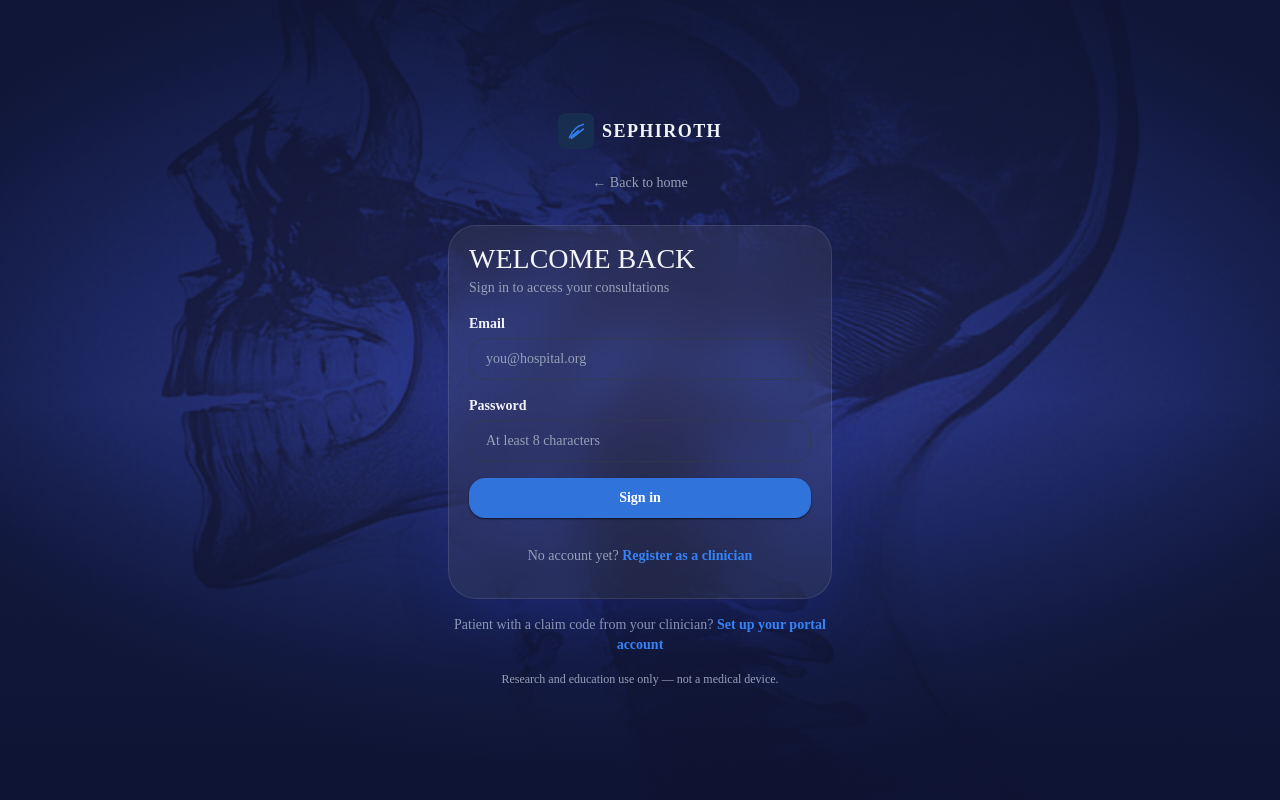
LoginPage error classification › renders validation on a 422
The image size is (1280, 800).
In the field with placeholder "you@hospital.org": coordinates (640, 359) top-left (469, 338), bottom-right (811, 380), type "doc@example.org"
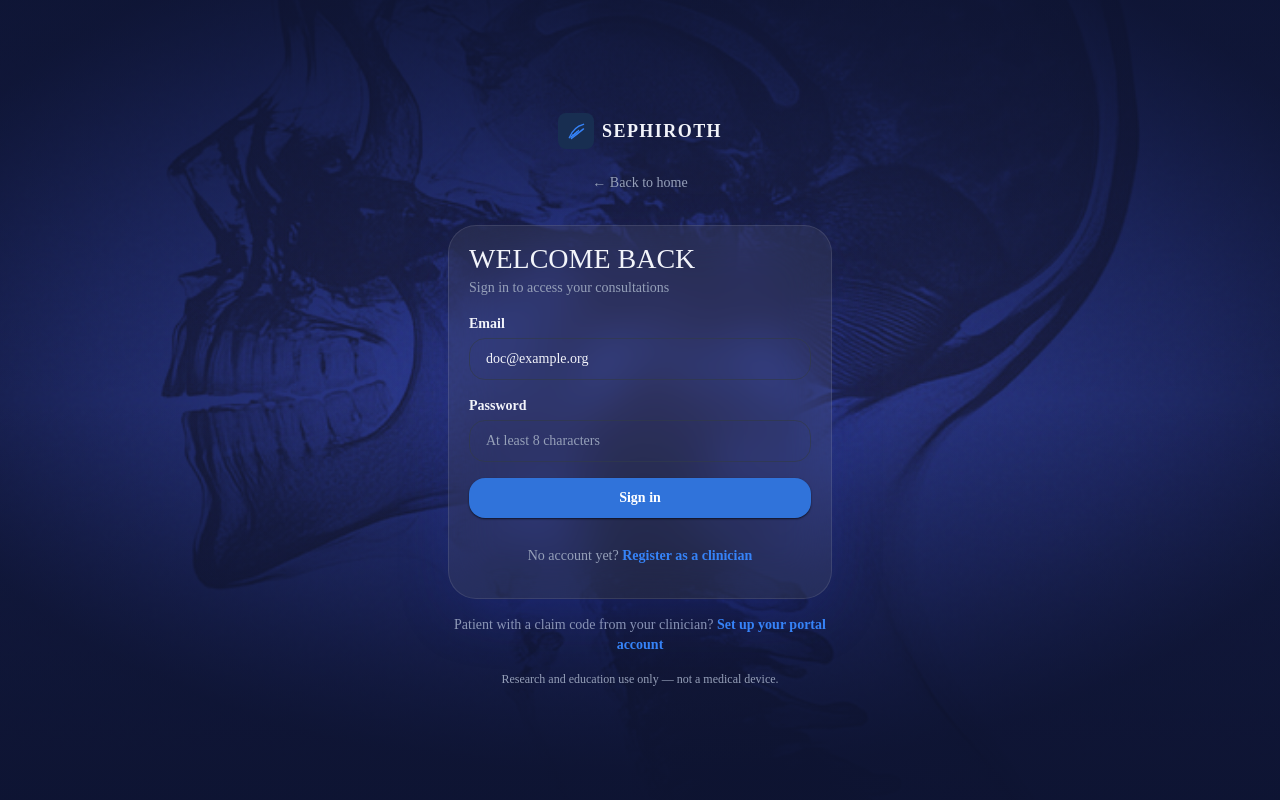
In the password field with placeholder "At least 8 characters": coordinates (640, 441) top-left (469, 420), bottom-right (811, 462), type "password123"
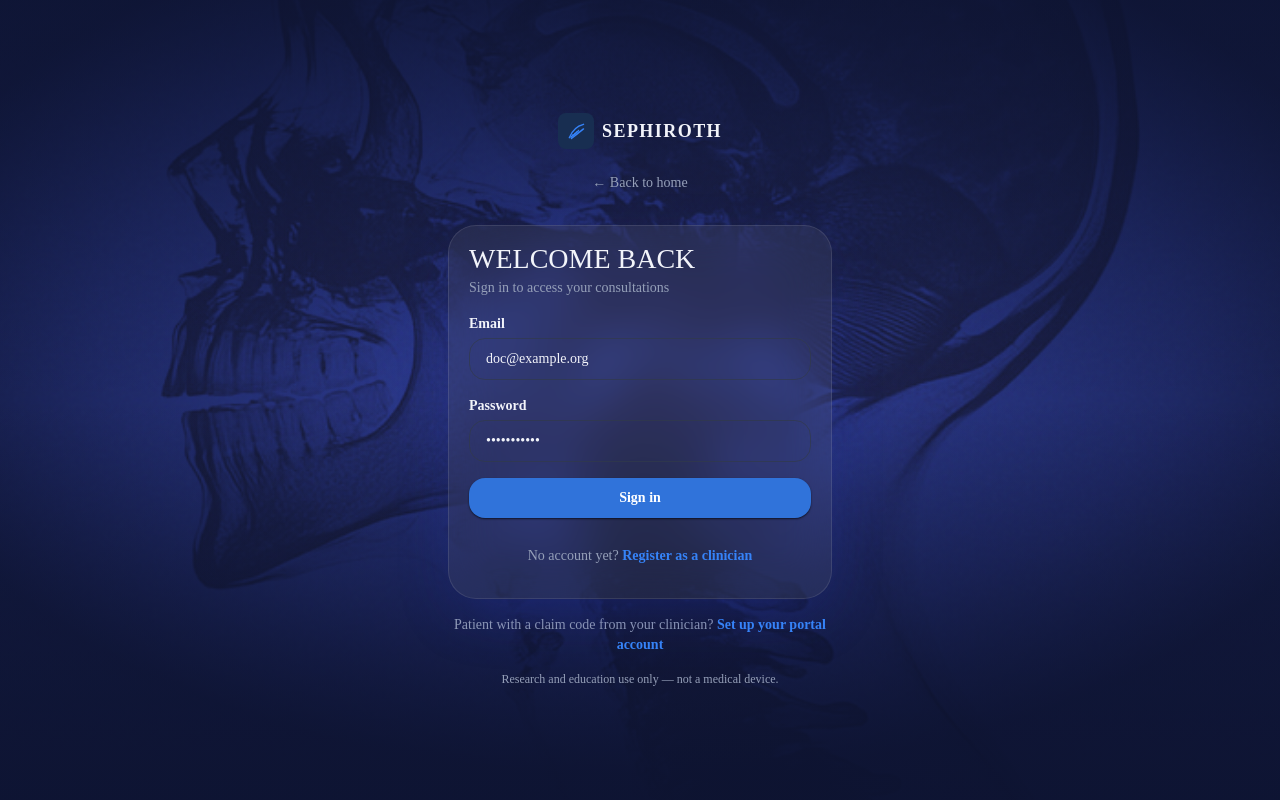
Click the button "Sign in": coordinates (640, 498) top-left (469, 478), bottom-right (811, 518)
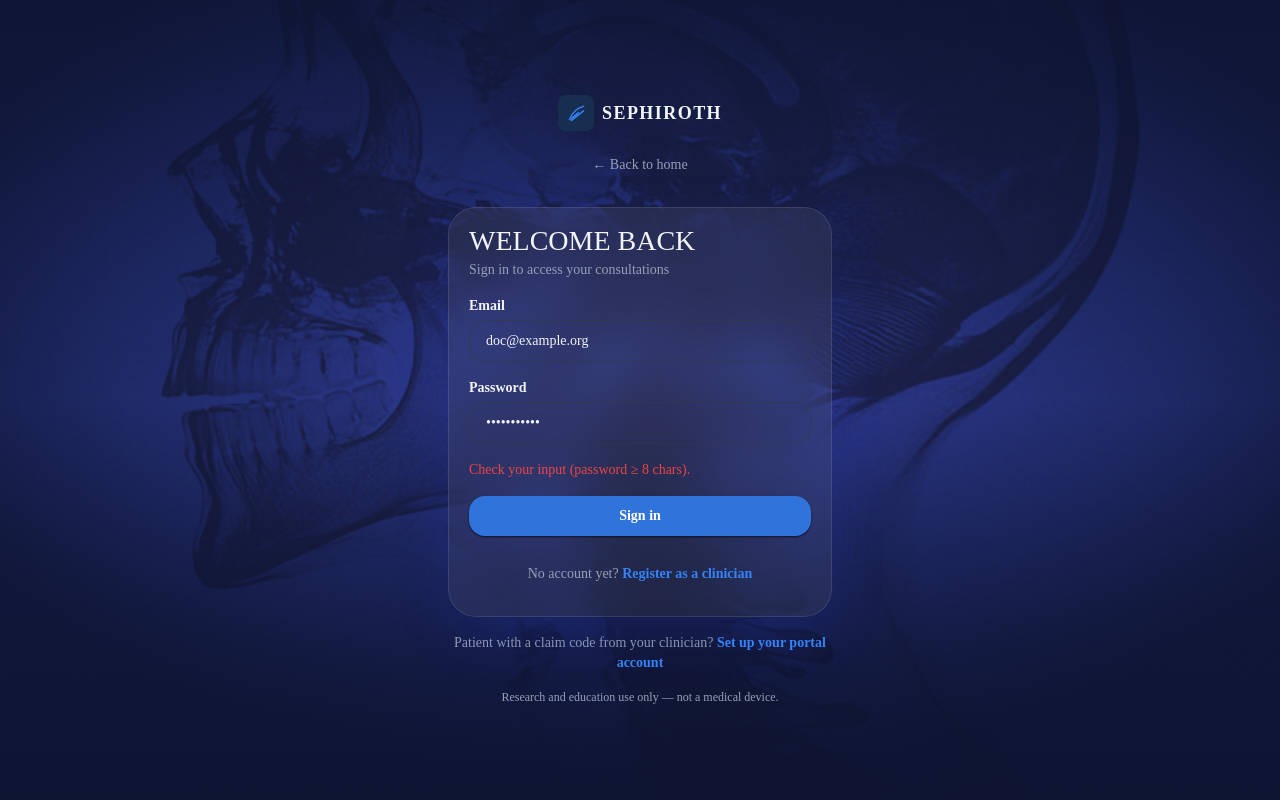
Expected: the text "Check your input (password ≥ 8 chars)." is shown, top-left (469, 462), bottom-right (690, 477)
